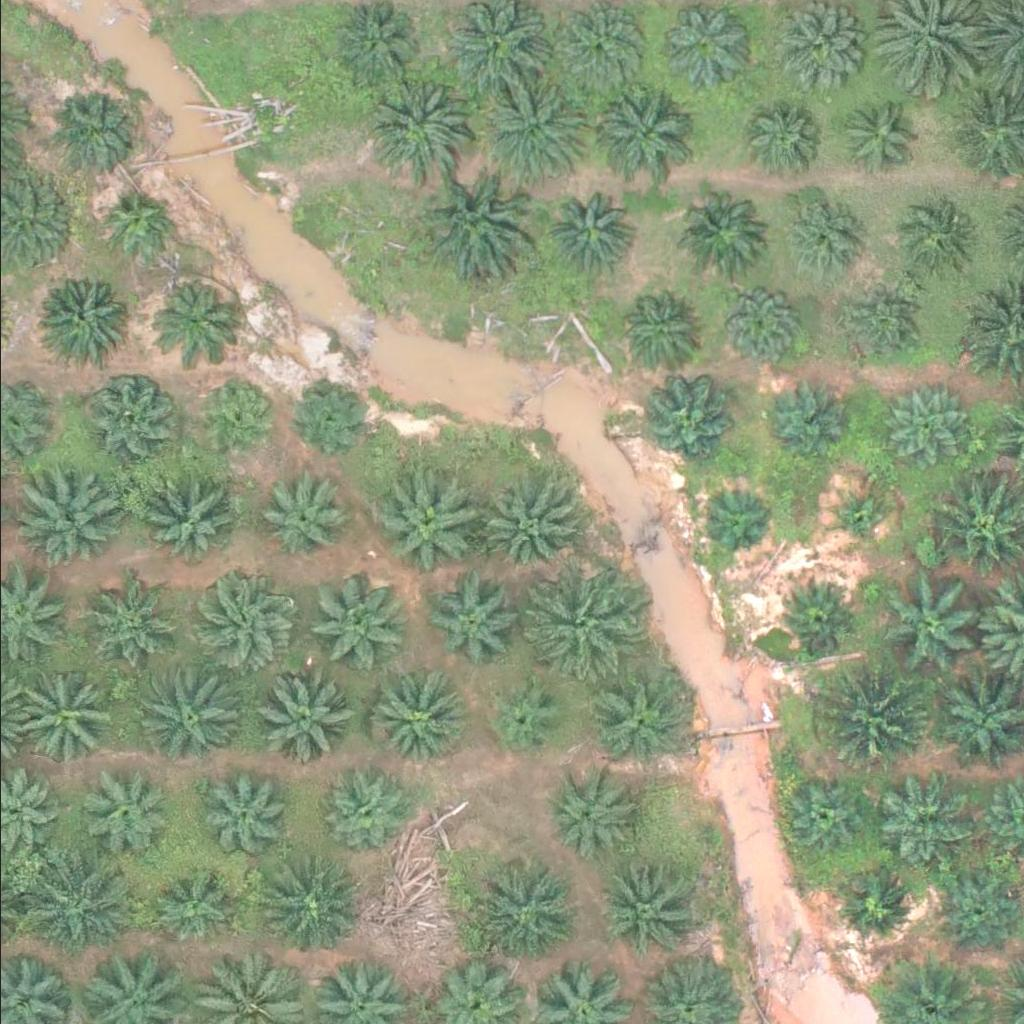Kelapa_Sawit: (521, 567, 635, 680), (17, 851, 130, 964), (417, 165, 530, 278), (872, 576, 985, 688), (820, 667, 933, 779), (480, 68, 593, 180), (586, 672, 687, 772), (863, 767, 964, 867), (594, 858, 695, 958), (6, 672, 107, 772), (473, 859, 574, 959), (192, 572, 293, 672), (251, 464, 352, 564), (368, 74, 469, 174), (590, 85, 690, 185), (132, 470, 232, 570), (16, 473, 116, 573), (255, 854, 355, 954), (366, 668, 466, 768), (253, 668, 353, 768), (138, 667, 238, 767), (308, 576, 408, 676), (478, 480, 578, 580), (372, 471, 472, 571), (734, 90, 823, 178), (558, 4, 647, 92), (881, 196, 969, 284), (875, 383, 963, 471), (636, 380, 724, 468), (831, 863, 919, 951), (75, 763, 163, 851), (74, 586, 162, 674), (187, 374, 275, 462), (49, 87, 137, 175), (154, 863, 242, 951), (544, 773, 632, 861), (609, 285, 697, 372), (716, 280, 804, 367), (837, 280, 925, 367), (828, 87, 916, 174), (777, 190, 865, 277), (677, 186, 765, 273), (765, 6, 853, 93), (769, 378, 857, 465), (776, 776, 864, 863), (935, 869, 1023, 956), (86, 376, 174, 463), (145, 278, 233, 365), (40, 274, 128, 361), (200, 770, 288, 857), (323, 767, 411, 854), (423, 577, 511, 664), (286, 376, 374, 463), (540, 191, 628, 278), (95, 190, 171, 265), (780, 578, 856, 653), (486, 681, 562, 756), (698, 484, 773, 559), (821, 485, 884, 548)
